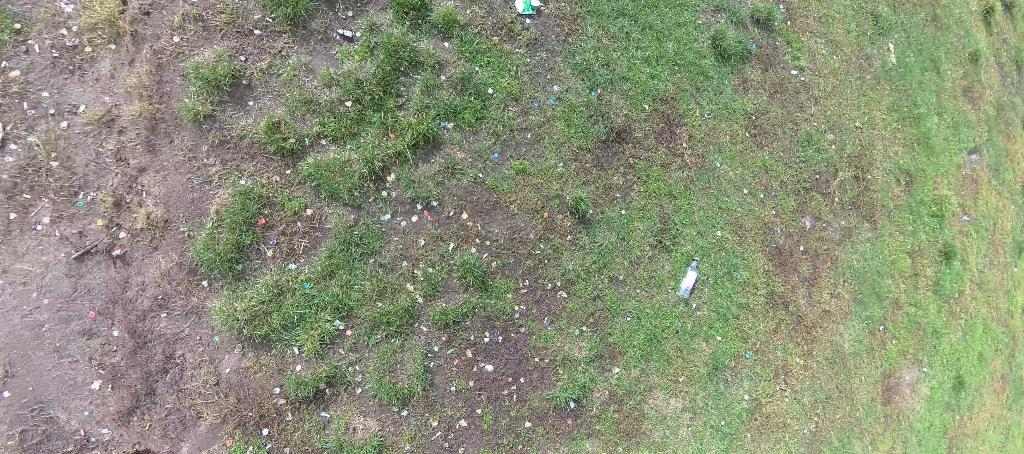garbage: (678, 256, 704, 299)
